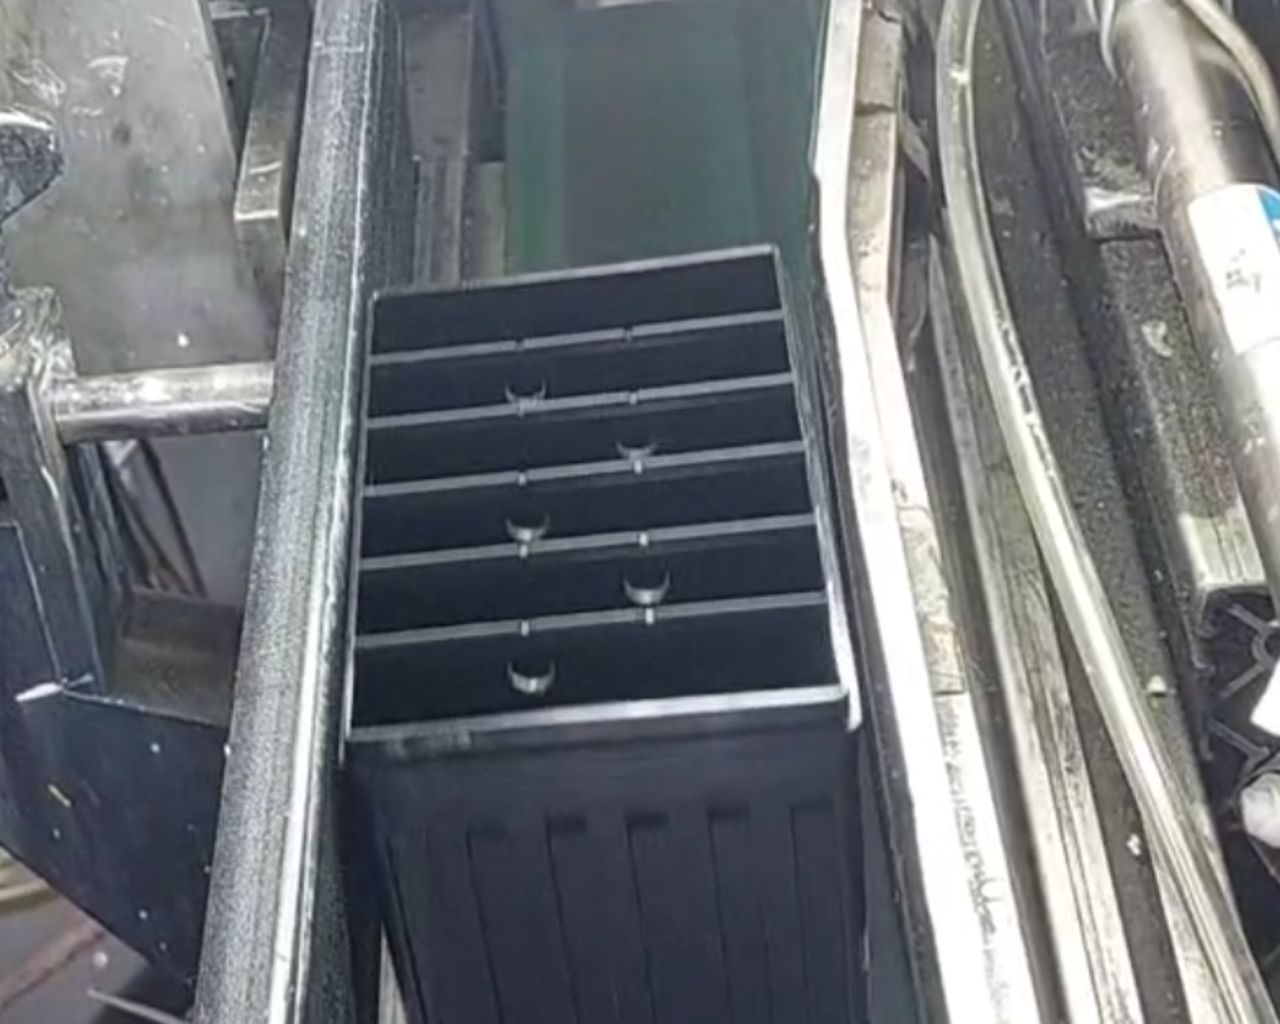box: (319, 225, 877, 782)
round: (490, 491, 563, 546), (499, 647, 567, 703), (612, 556, 680, 608), (605, 410, 670, 461), (495, 360, 554, 408)
